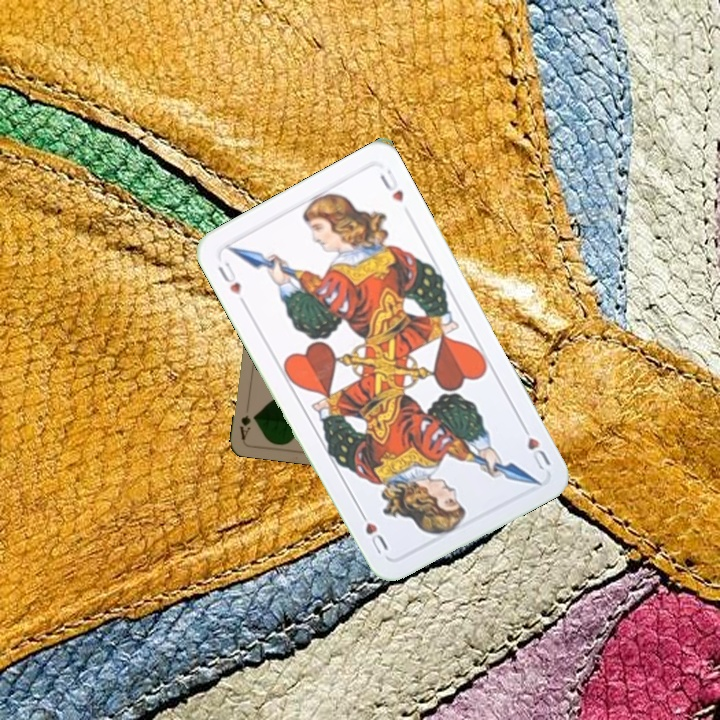HU: (516, 418, 553, 473), (214, 256, 244, 298)
